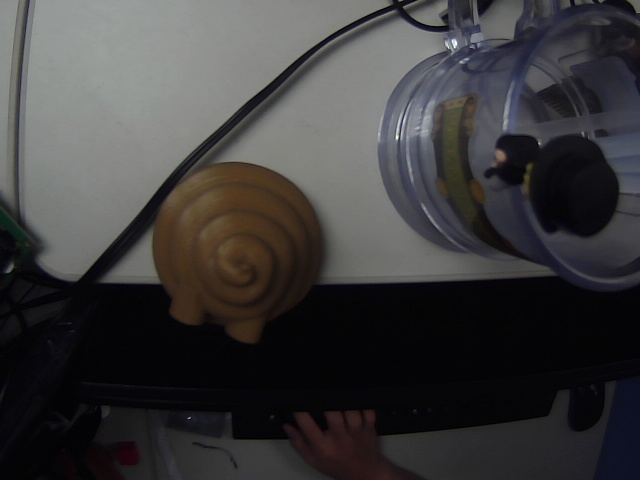shit: (149, 154, 333, 350)
